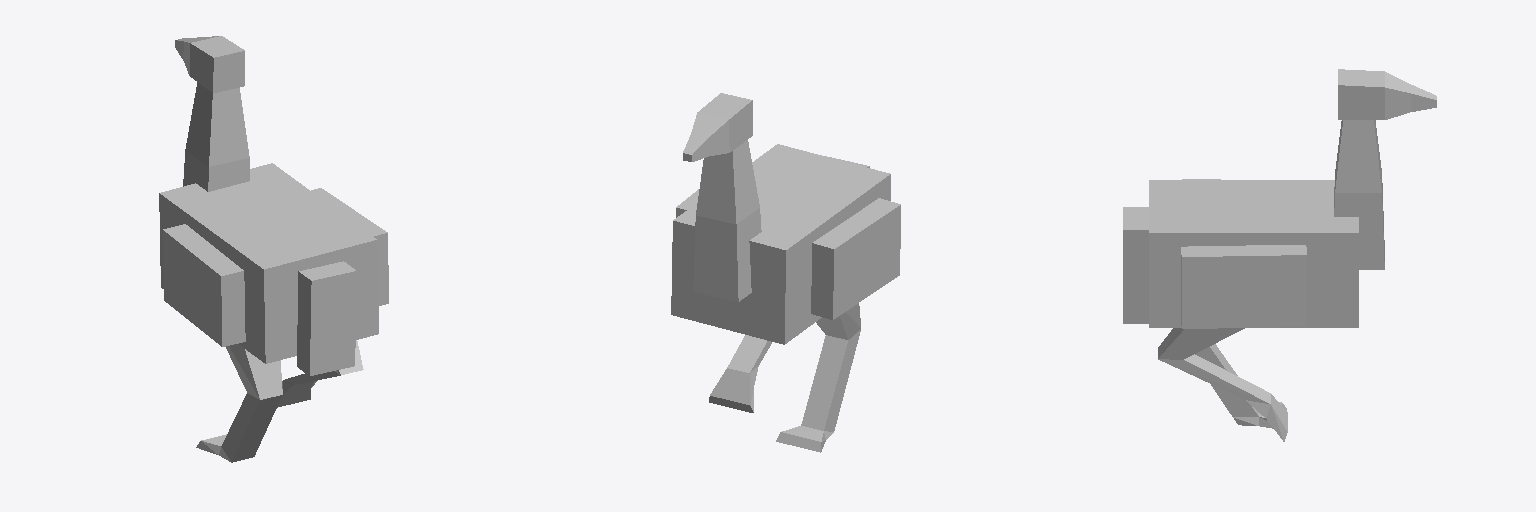
Rendered from Ostrich_000223.obj.
The picture shows the model from 3 angles: view 1: azimuth 30°, elevation 25°; view 2: azimuth 150°, elevation 25°; view 3: azimuth 270°, elevation 25°; orthographic projection.
Parts seen in each view (by area): view 1: Cube_Cube.001; view 2: Cube_Cube.001; view 3: Cube_Cube.001.
Boxes of the visible parts, <box> form: Cube_Cube.001: <box>159,36,388,462</box>; Cube_Cube.001: <box>671,93,900,452</box>; Cube_Cube.001: <box>1123,69,1436,441</box>.
Size of the model in its own units: 0.7414 by 1.52 by 1.2.